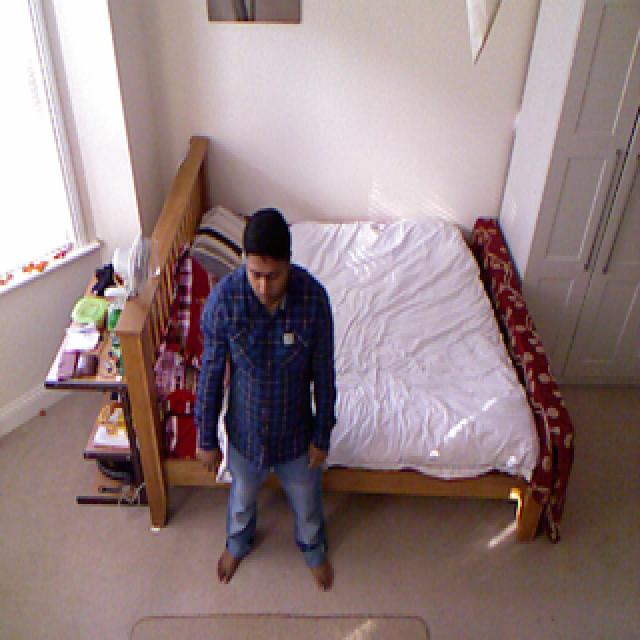standing: (199, 213, 339, 597)
